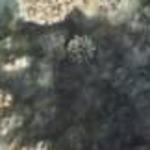alive: (6, 4, 142, 147)
